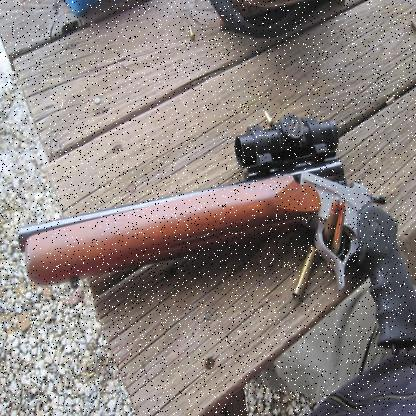pistol: (18, 126, 415, 355)
